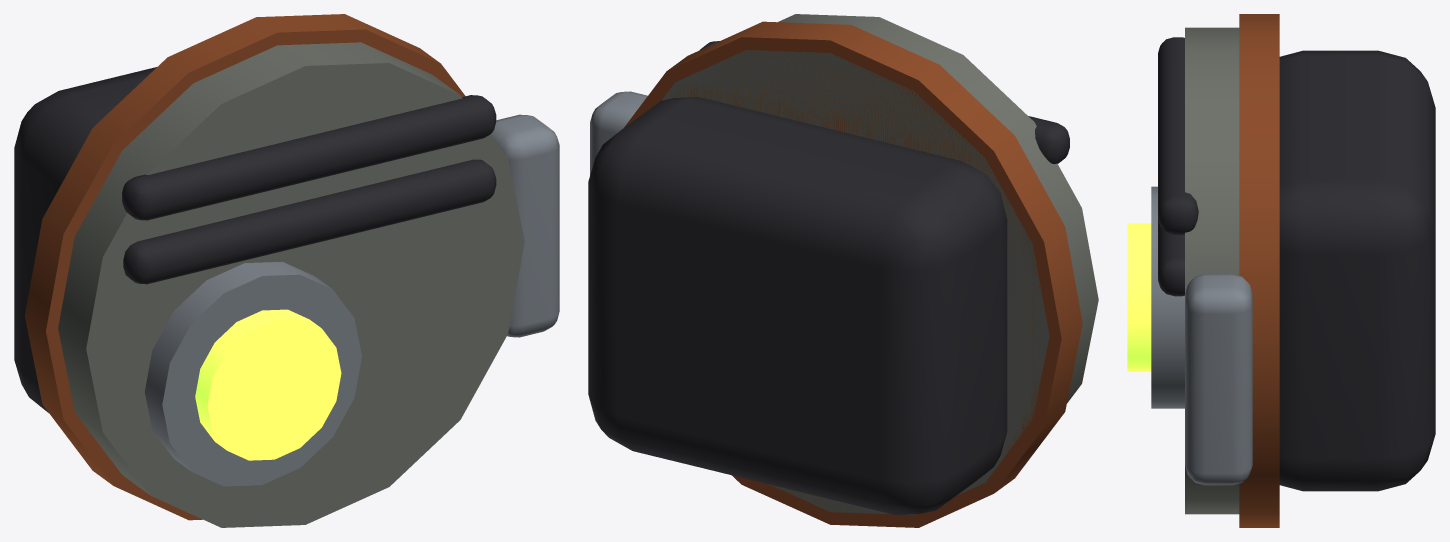
The model's file is co_solvent.glb.
3 renders of one model, left to right at view 1: azimuth 30°, elevation 25°; view 2: azimuth 150°, elevation 25°; view 3: azimuth 270°, elevation 25°, orthographic. The views are drawn at different scales.
Visible parts, largest first — view 1: co_solvent; view 2: co_solvent; view 3: co_solvent.
Part boxes in pixels (bbox=[...]): co_solvent: bbox=[14, 14, 559, 527]; co_solvent: bbox=[588, 14, 1098, 527]; co_solvent: bbox=[1127, 14, 1435, 527].
Bounding box in the file's own units: 0.1741 × 0.1634 × 0.0978.
